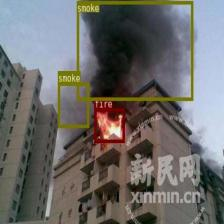fire: (94, 108, 124, 142)
smoke: (76, 0, 192, 100), (58, 82, 88, 128)
